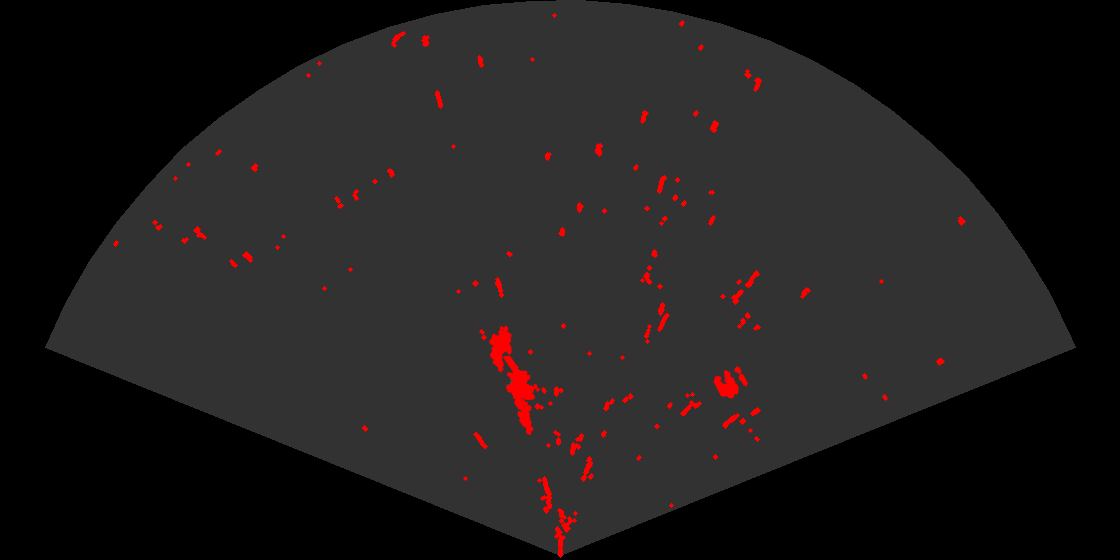AUV: (488, 324, 513, 374)
ball: (712, 365, 750, 400)
frogman: (501, 356, 539, 437)
